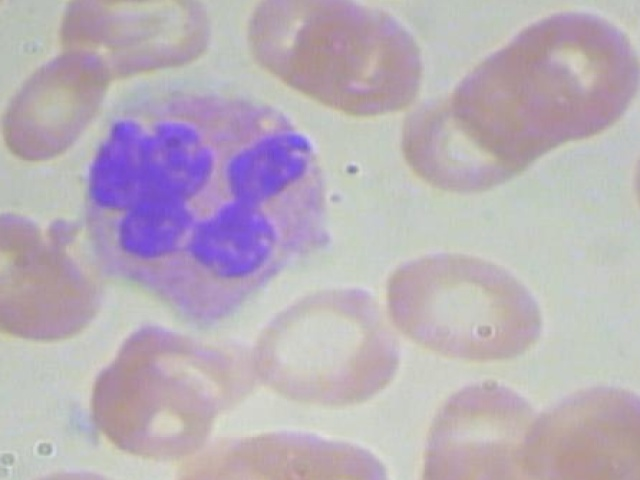RBC: (373, 236, 557, 373), (238, 270, 395, 421), (499, 3, 640, 131), (62, 356, 221, 459), (106, 317, 253, 417), (307, 2, 441, 109), (511, 373, 640, 480), (0, 46, 111, 163), (237, 0, 368, 86), (0, 388, 12, 480), (636, 114, 640, 243)
WBC: (60, 76, 354, 344)
